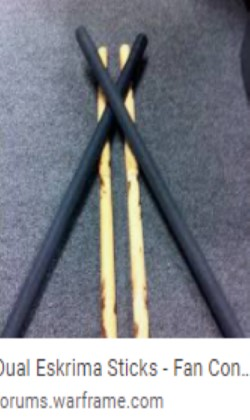baston_e: (117, 53, 155, 332), (94, 54, 117, 331)
baston_v: (221, 321, 248, 351), (0, 319, 25, 348), (69, 19, 95, 44), (128, 325, 156, 346), (96, 327, 123, 347), (132, 27, 156, 49), (116, 41, 134, 58), (96, 40, 109, 60)
